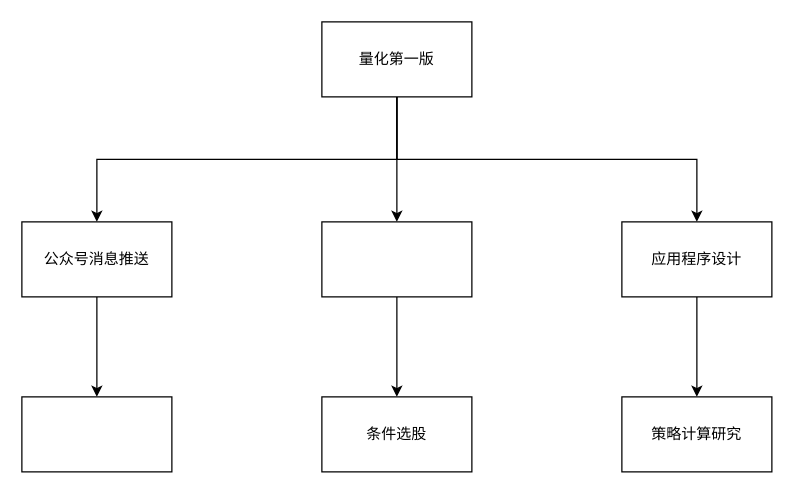
This 794x494 diagram has some shape labels left out. The shapes that lost their labels are listed below. From the top down, each one's box as (x1, y1, x2, y2) in pixels, then its label:
(321, 221, 472, 297): uninapp界面展示
(21, 396, 172, 472): 个性化推送
